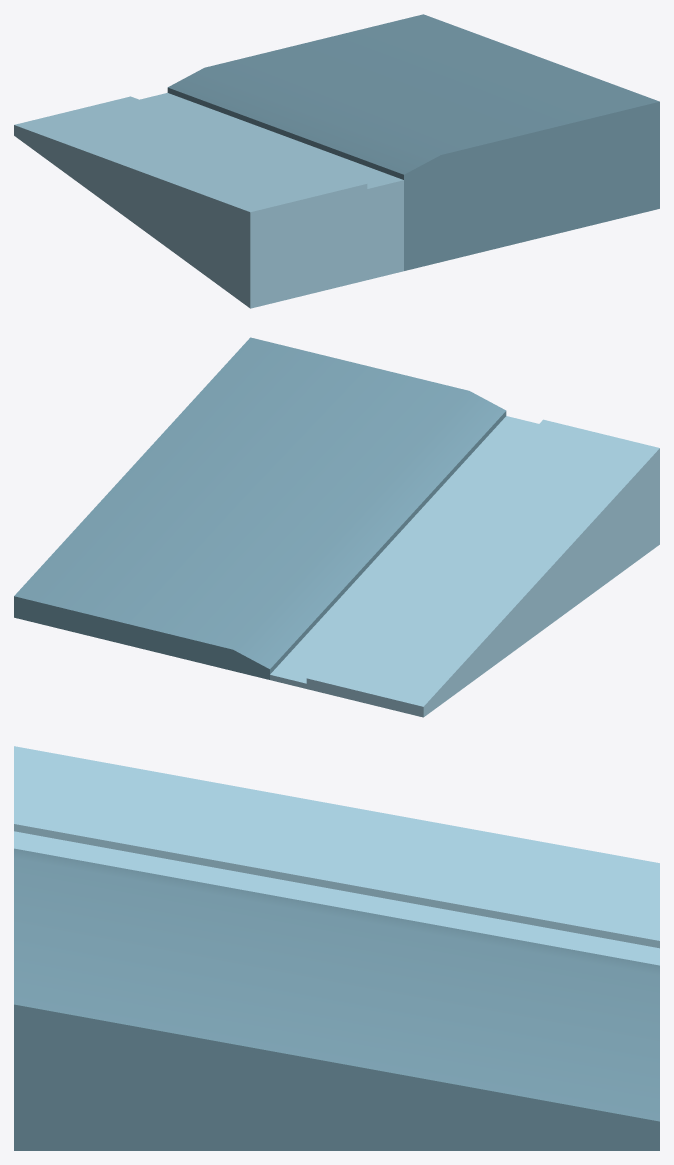
The model's file is roadEdgeSlope.fbx.
The picture shows the model from 3 angles, top to bottom: view 1: azimuth 30°, elevation 25°; view 2: azimuth 150°, elevation 25°; view 3: azimuth 270°, elevation 25°; orthographic projection. The views are drawn at different scales.
Parts seen in each view (by area): view 1: roadEdgeSlope; view 2: roadEdgeSlope; view 3: roadEdgeSlope.
Boxes of the visible parts, x1=… form: roadEdgeSlope: x1=14, y1=14, x2=659, y2=308; roadEdgeSlope: x1=14, y1=337, x2=659, y2=717; roadEdgeSlope: x1=14, y1=746, x2=659, y2=1150.
Bounding box in the file's own units: 10 × 2.5 × 10.
